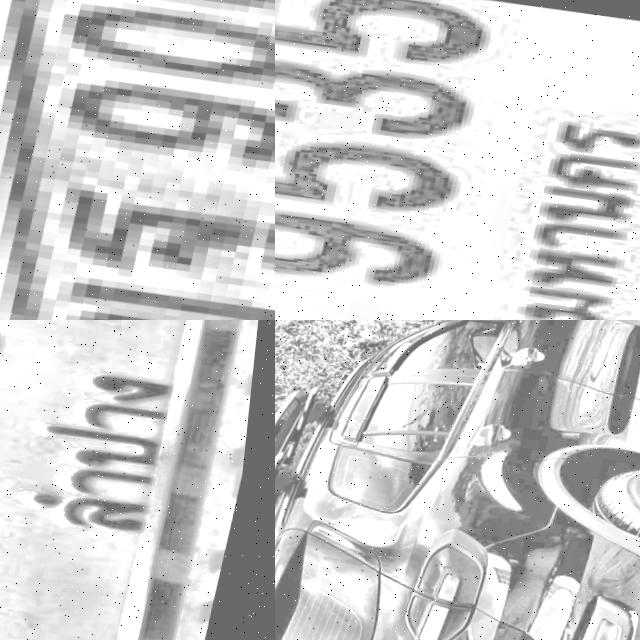license-plate: (275, 0, 640, 320), (0, 0, 275, 320), (0, 320, 275, 640)
